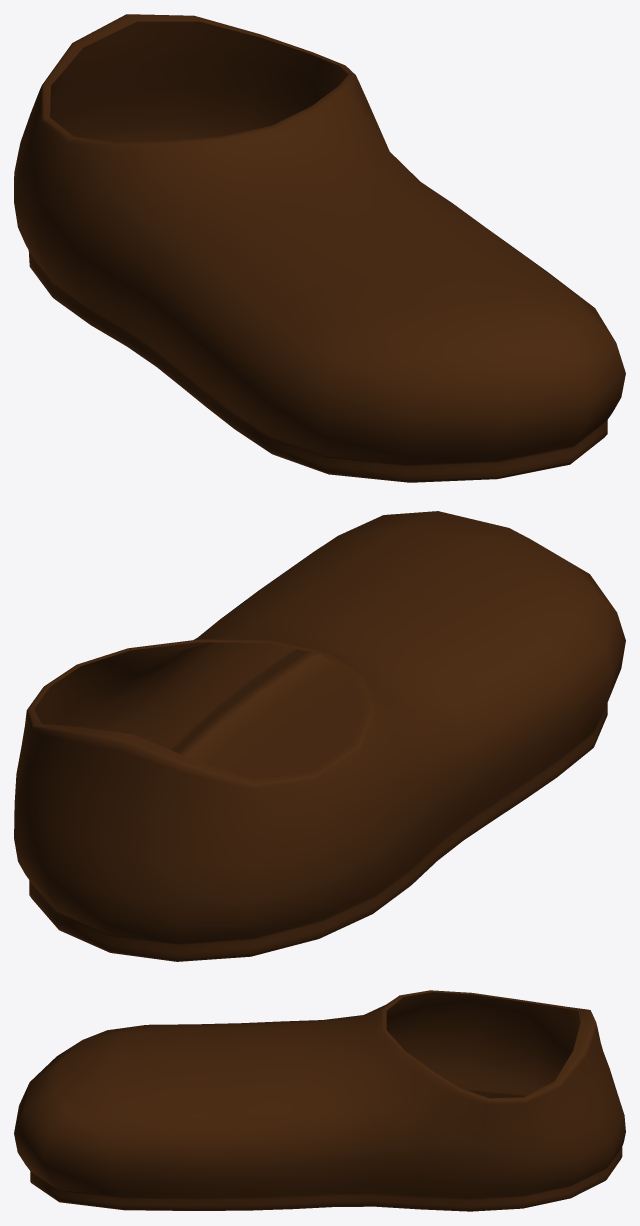
Rendered from shoes-1.glb.
3 views of the same model, one above another, from view 1: azimuth 30°, elevation 25°; view 2: azimuth 150°, elevation 25°; view 3: azimuth 270°, elevation 25° (orthographic). The views are drawn at different scales.
Parts seen in each view (by area): view 1: basic; view 2: basic; view 3: basic.
Part boxes in pixels (<box>): basic: <box>14,14,625,482</box>; basic: <box>14,511,625,961</box>; basic: <box>14,990,625,1211</box>.
Bounding box in the file's own units: 0.3872 × 0.2181 × 0.8594.
